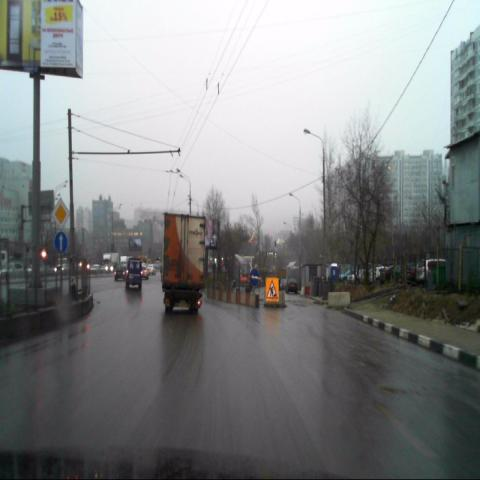1_25: (266, 278, 278, 301)
2_1: (52, 197, 70, 231)
4_1_1: (54, 230, 68, 255)
4_1_2_2: (250, 269, 258, 285)
